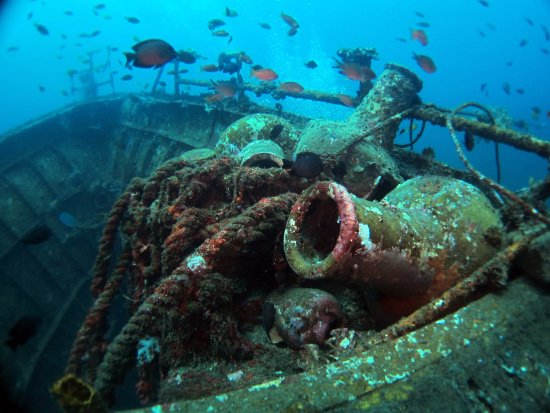amphora: (280, 174, 515, 306), (289, 61, 426, 201), (215, 107, 302, 178)
